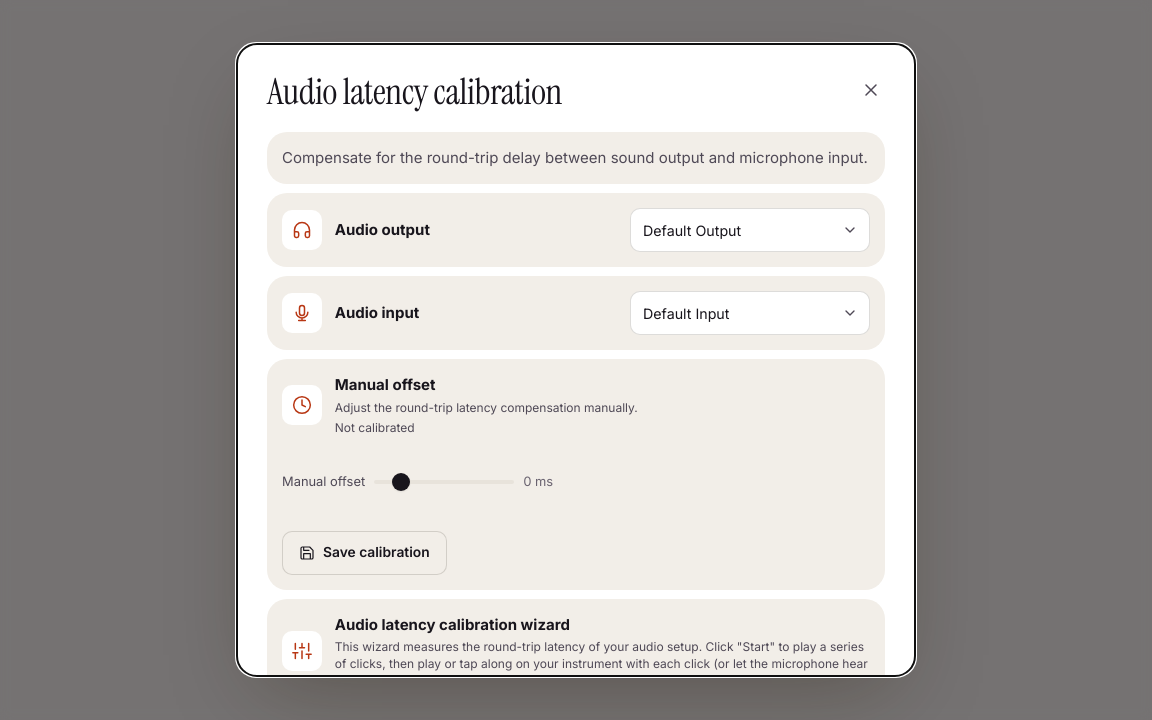
Test case: CalibrationSheet › allows manually adjusting and saving the latency offset
Set the slider with test id "offset-slider" to "85". click: coordinates (415, 482)
box: [374, 460, 514, 504]
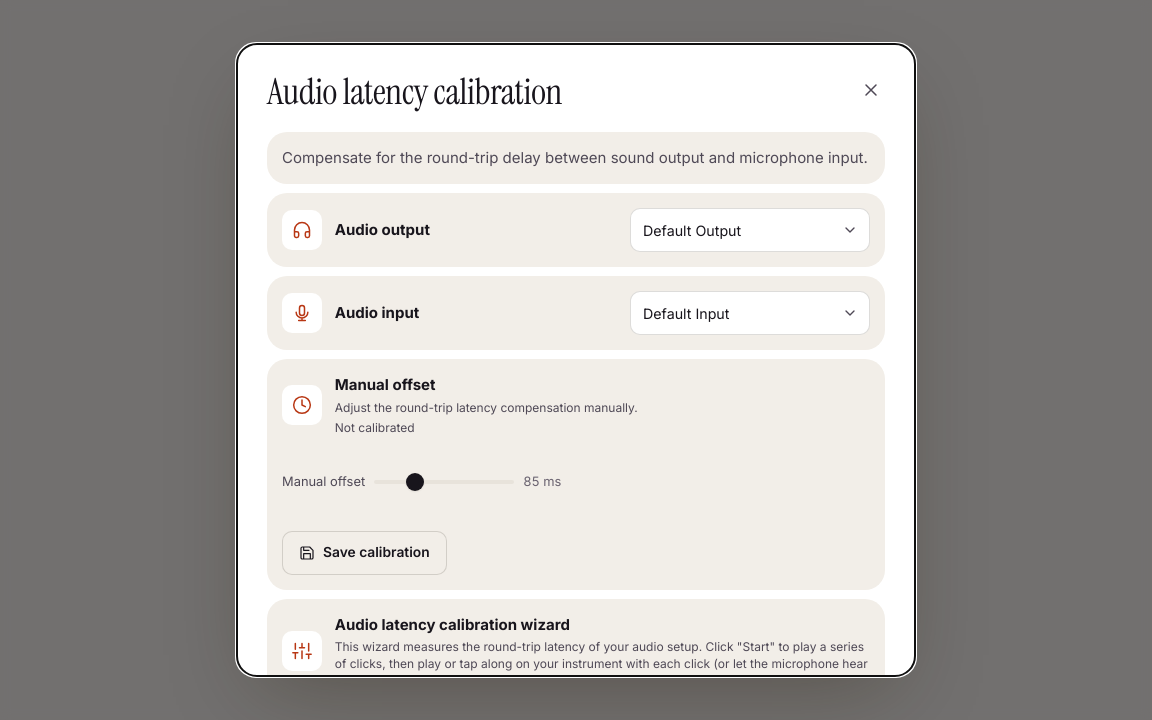
Expected: the text with test id "offset-value" reads "85 ms", [523, 474, 561, 489]
Click the button with test id "save-calibration-button". click: coordinates (364, 552)
box: [282, 530, 447, 574]
(page scrolled)
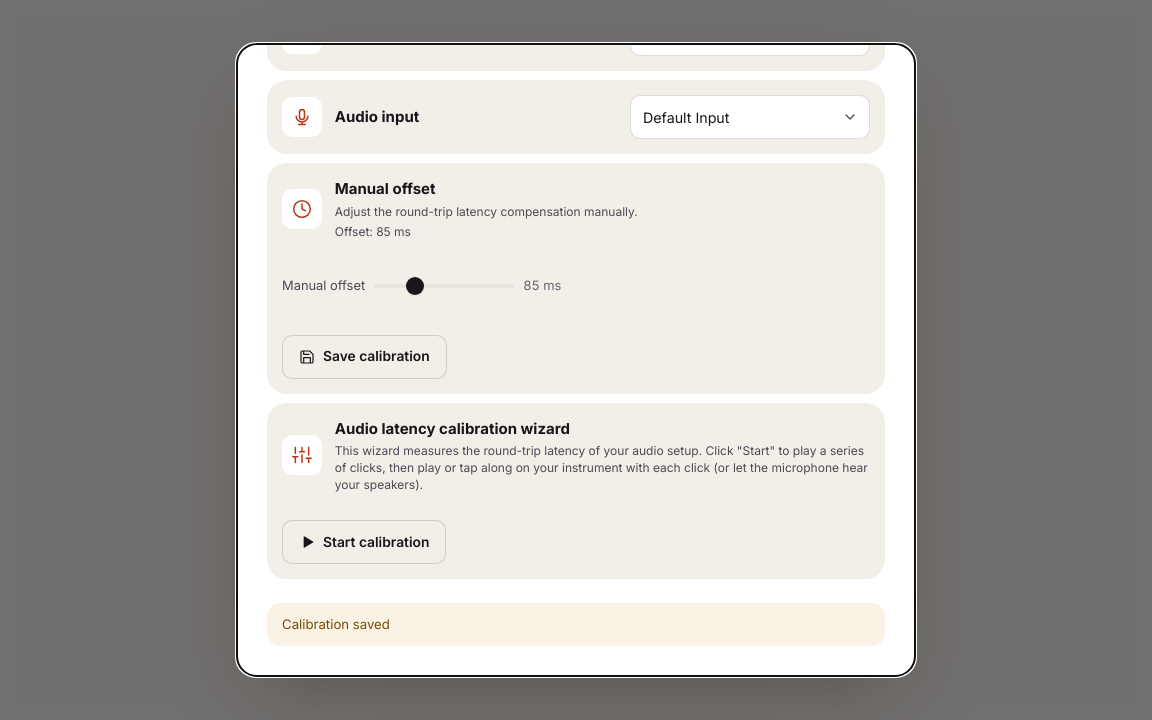
Expected: the message "Calibration saved" is shown, [267, 603, 885, 646]
